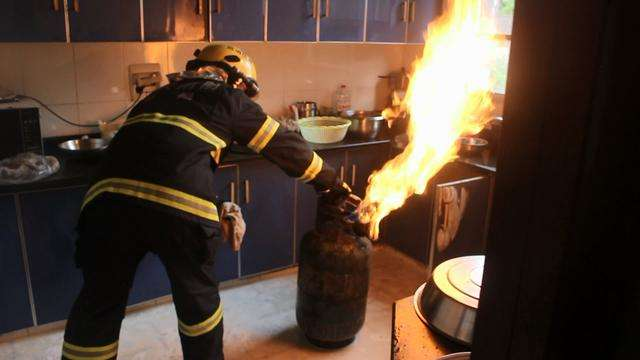fire: (362, 8, 499, 222)
